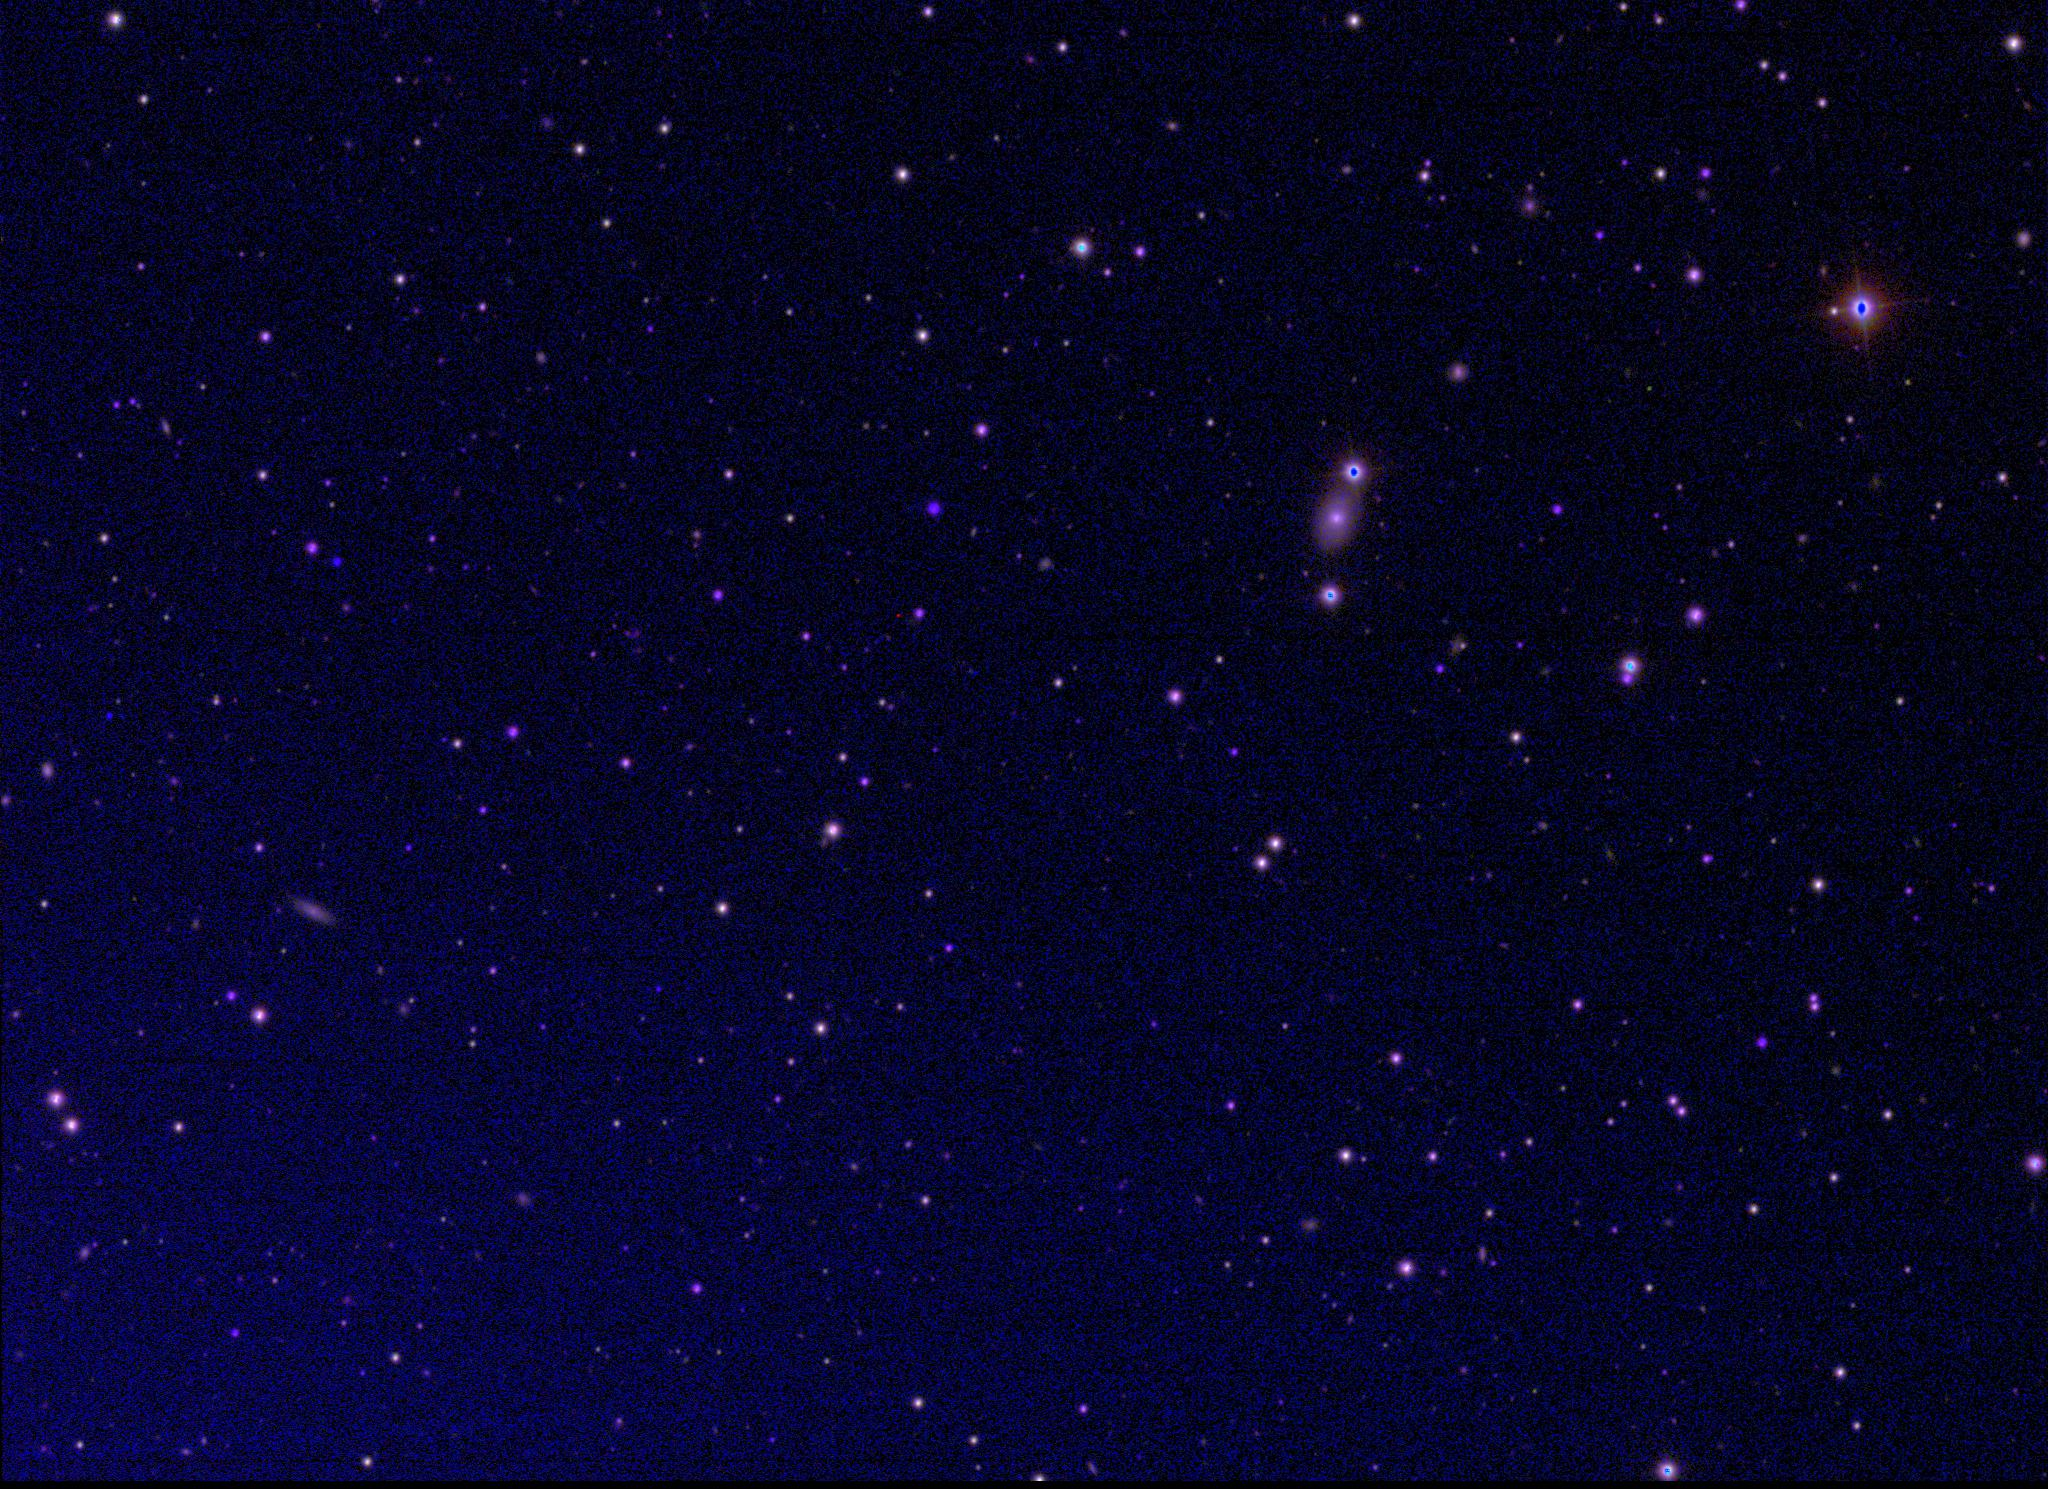L: (100, 710, 114, 722)
